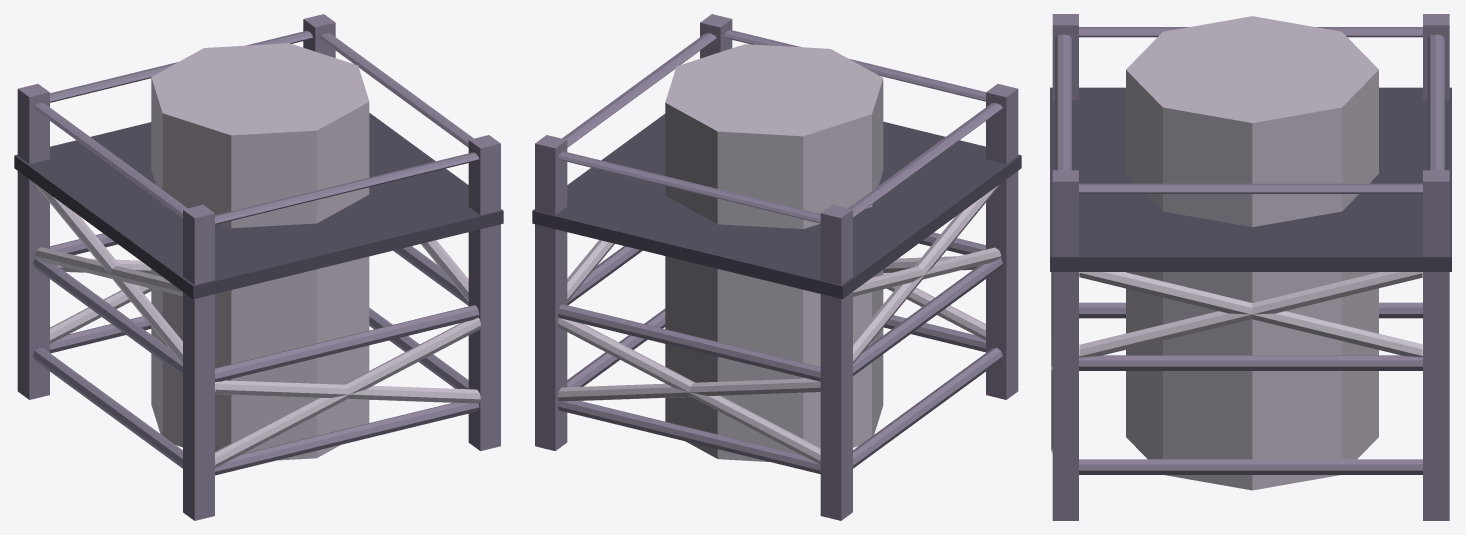
File: Andaime.fbx
3 views of the same model, side by side, from view 1: azimuth 30°, elevation 25°; view 2: azimuth 150°, elevation 25°; view 3: azimuth 270°, elevation 25° (orthographic). The views are drawn at different scales.
Visible parts, largest first — view 1: Cylinder.020; view 2: Cylinder.020; view 3: Cylinder.020.
Boxes of the visible parts, x1,y1,x2,y2 form: Cylinder.020: (14,14,503,520); Cylinder.020: (532,14,1021,520); Cylinder.020: (1050,14,1451,520).
Size of the model in its own units: 943 by 955 by 943.
